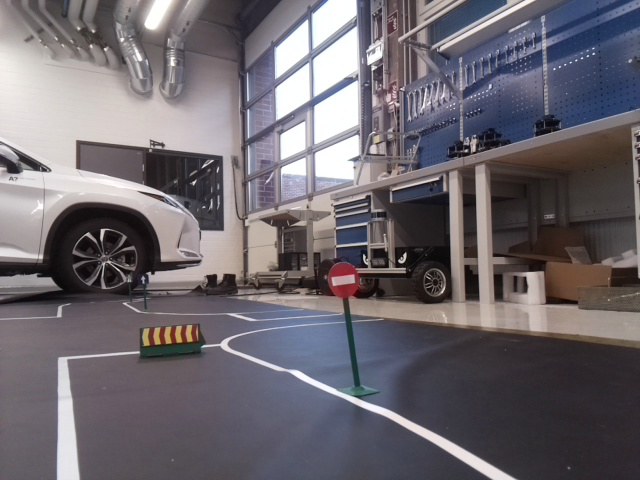ClosedRoadStand: (138, 327, 198, 344)
NoEntry: (325, 261, 361, 295)
